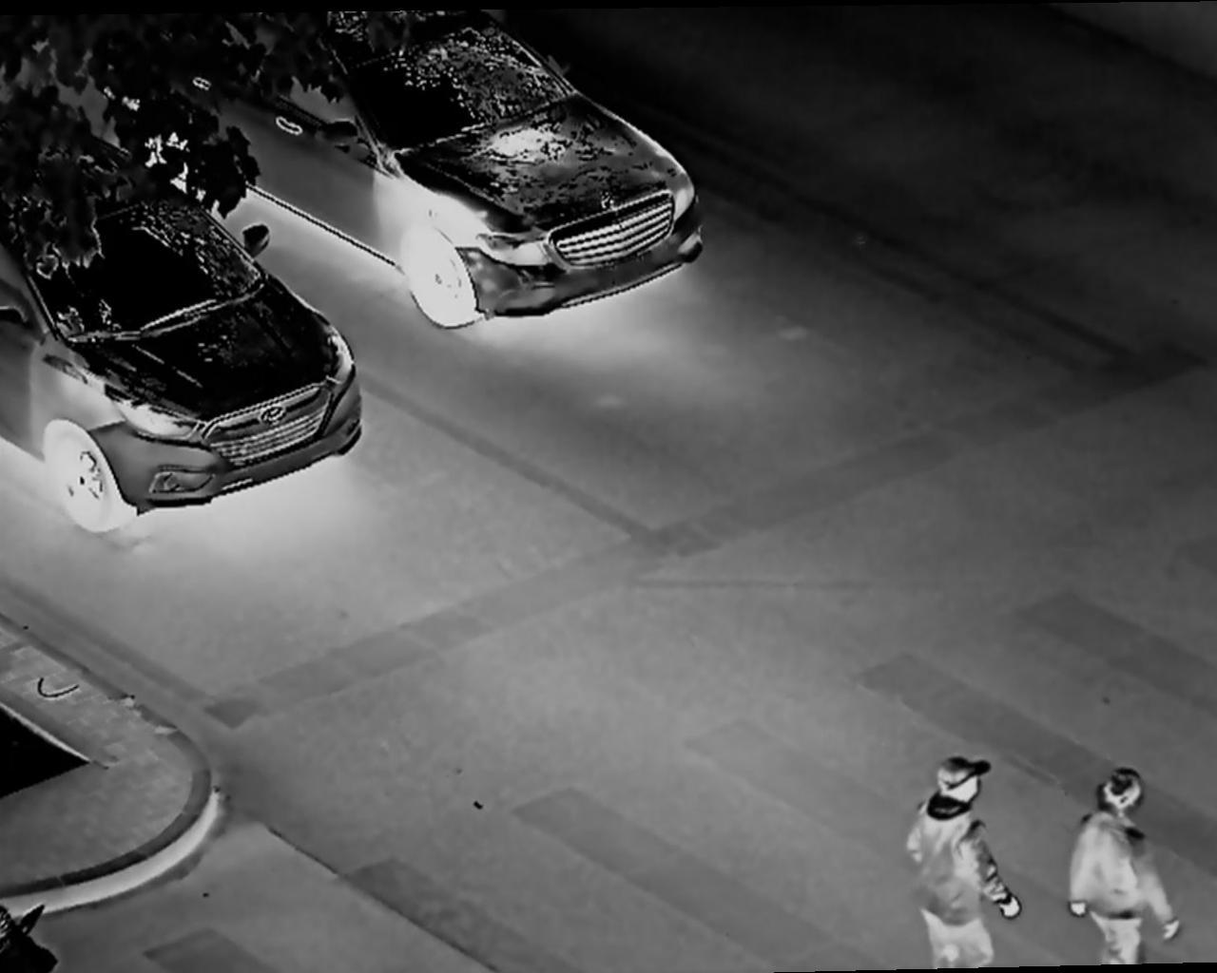person: (1059, 765, 1184, 973), (902, 752, 1025, 963)
